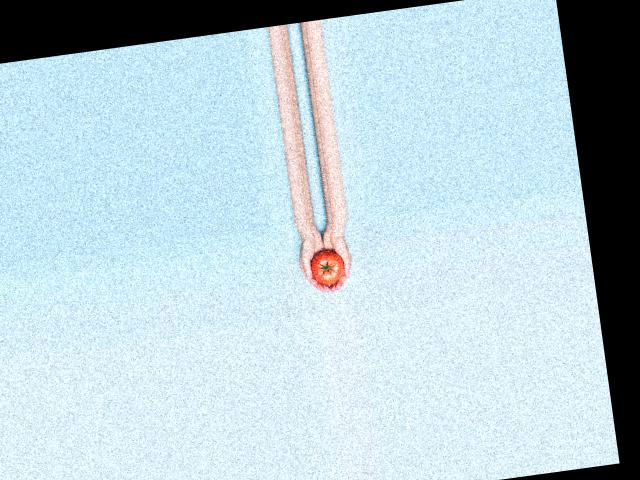tomato: (308, 248, 345, 286)
